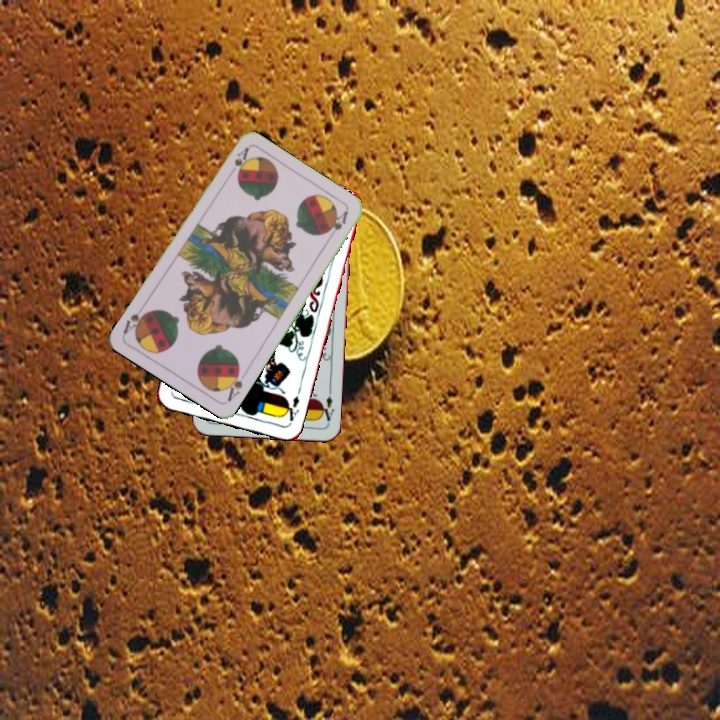EA: (316, 385, 337, 423), (280, 391, 302, 425)
SA: (224, 144, 251, 180), (221, 364, 245, 404)
